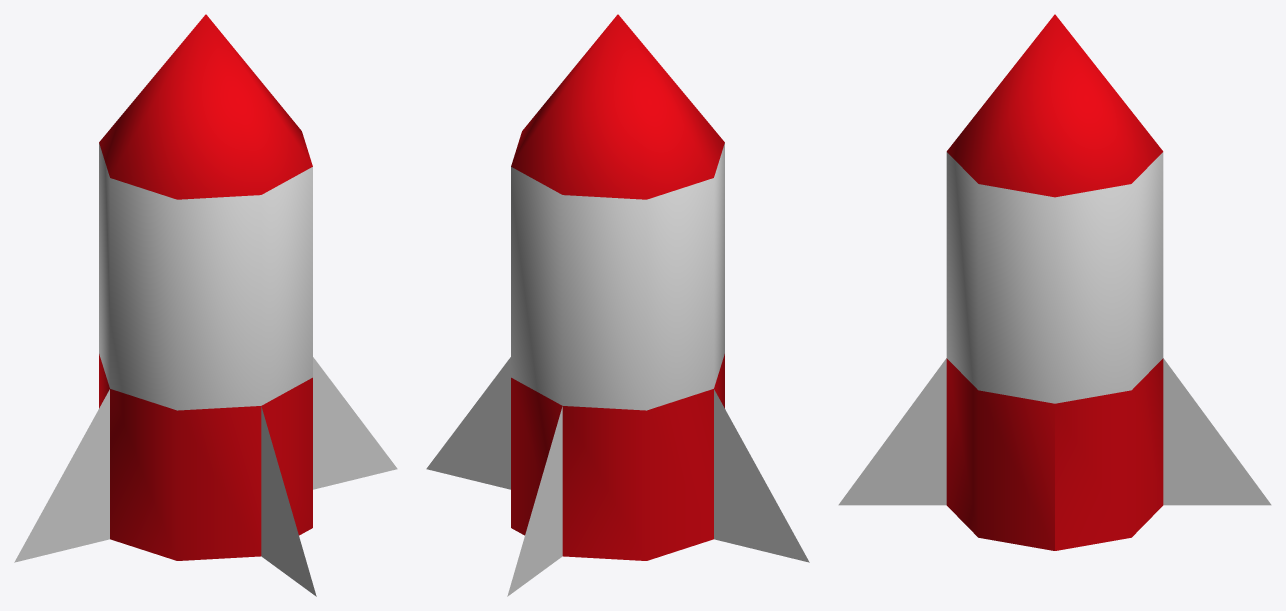
Rendered from rocket.fbx.
3 renders of one model, left to right at view 1: azimuth 30°, elevation 25°; view 2: azimuth 150°, elevation 25°; view 3: azimuth 270°, elevation 25°, orthographic. The views are drawn at different scales.
Visible parts, largest first — view 1: Cylinder; view 2: Cylinder; view 3: Cylinder.
Part boxes in pixels (box(x1,y1,x2,y2)): Cylinder: box(14, 14, 397, 596); Cylinder: box(426, 14, 809, 596); Cylinder: box(838, 14, 1271, 550).
Size of the model in its own units: 400 by 500 by 400.
